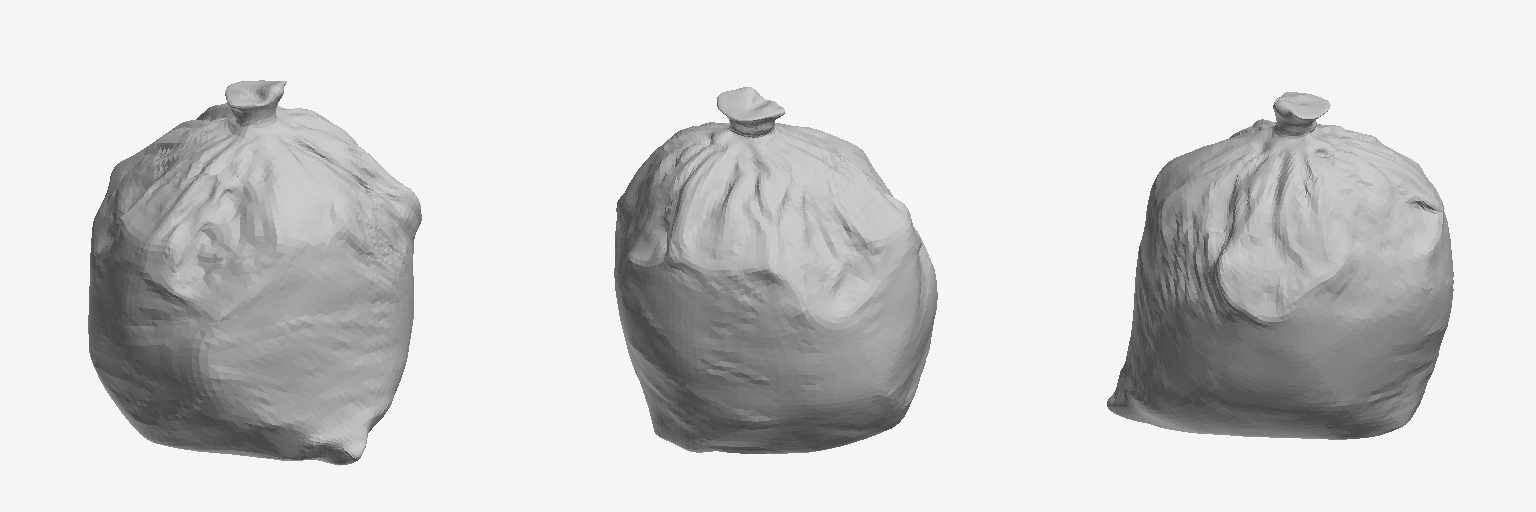
3 renders of one model, left to right at view 1: azimuth 30°, elevation 25°; view 2: azimuth 150°, elevation 25°; view 3: azimuth 270°, elevation 25°, orthographic.
Parts seen in each view (by area): view 1: garbage_bag; view 2: garbage_bag; view 3: garbage_bag.
Part boxes in pixels (left/top/right/bottom): garbage_bag: left=88, top=80, right=421, bottom=465; garbage_bag: left=614, top=87, right=937, bottom=453; garbage_bag: left=1107, top=92, right=1453, bottom=439.
Bounding box in the file's own units: 0.914 × 0.9967 × 0.9521.